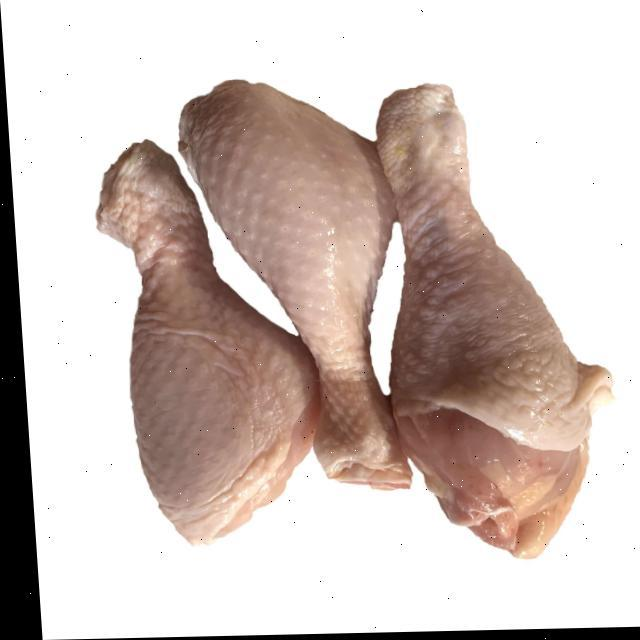leg: (361, 77, 614, 565), (168, 72, 412, 500), (71, 138, 316, 531)
